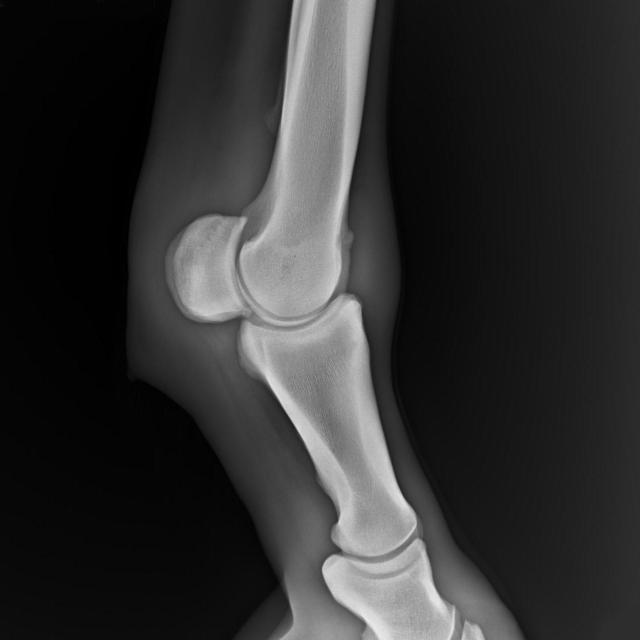joint-ht8A: (145, 139, 430, 413)
